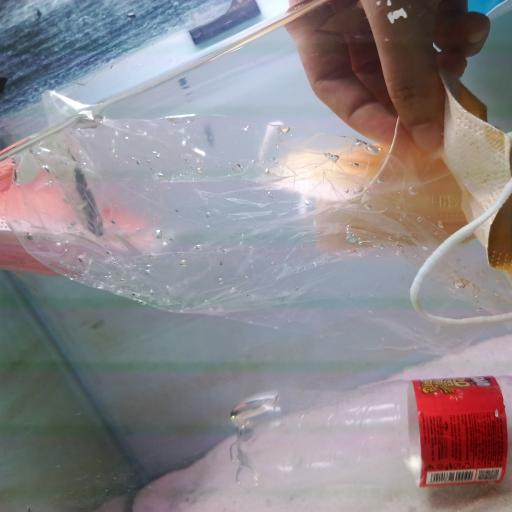mask: (289, 92, 512, 330), (0, 157, 160, 301)
plastic_bag: (29, 92, 504, 303)
plastic_bottle: (229, 375, 512, 512)
